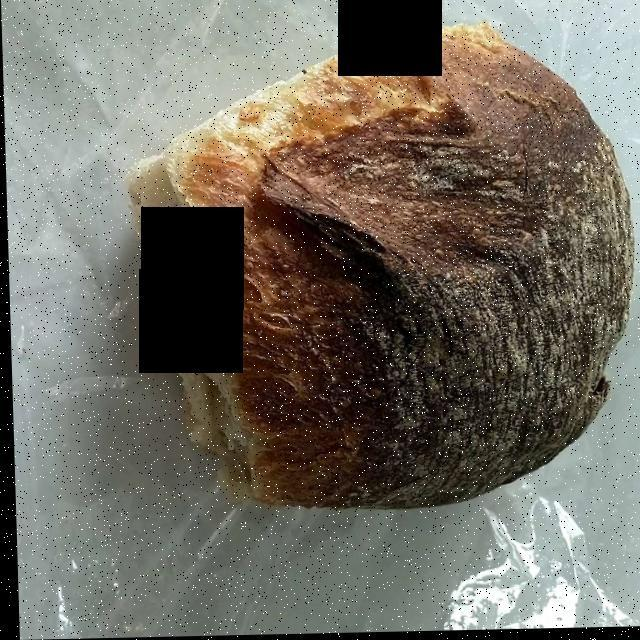bread: (137, 30, 628, 509)
